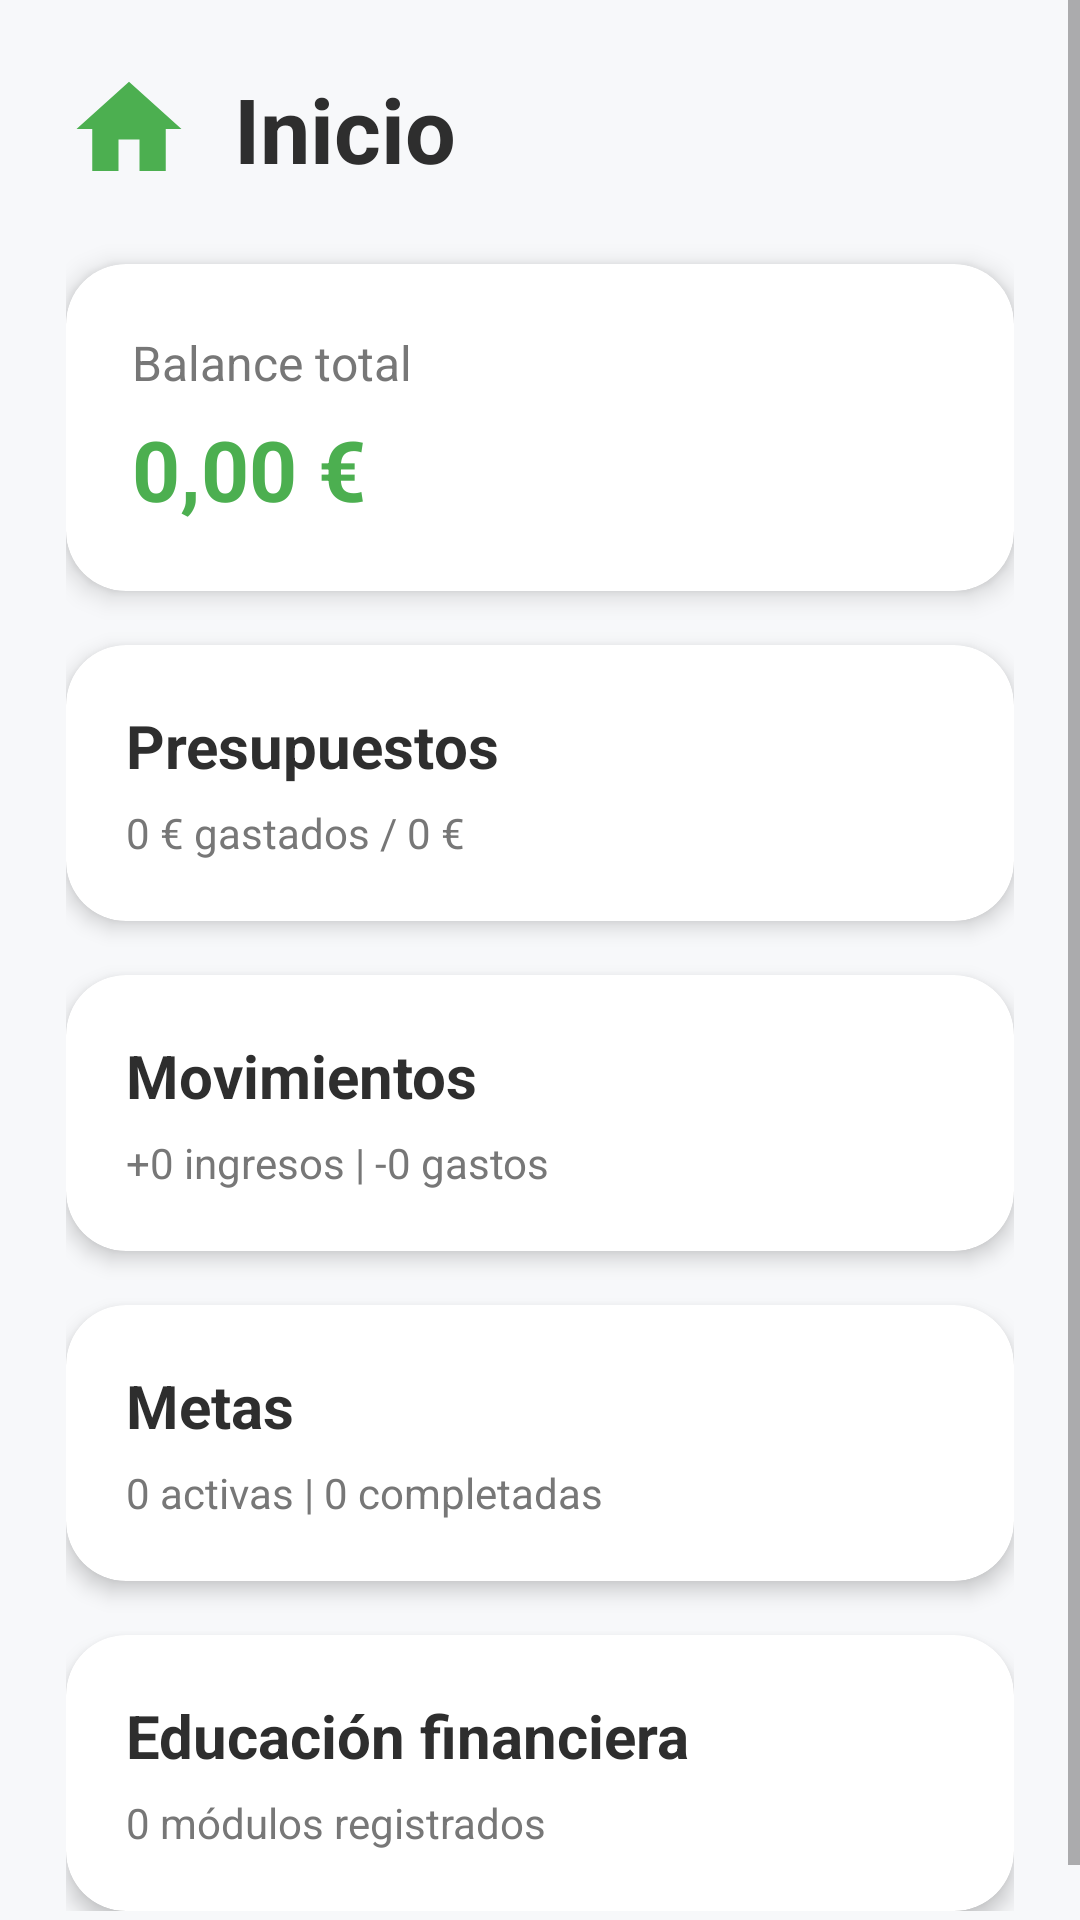

Screen size 1080px×1920px. Icon name, then its box in pixels as (x1, y1, x2, y2):
home: (77, 82, 181, 171)
